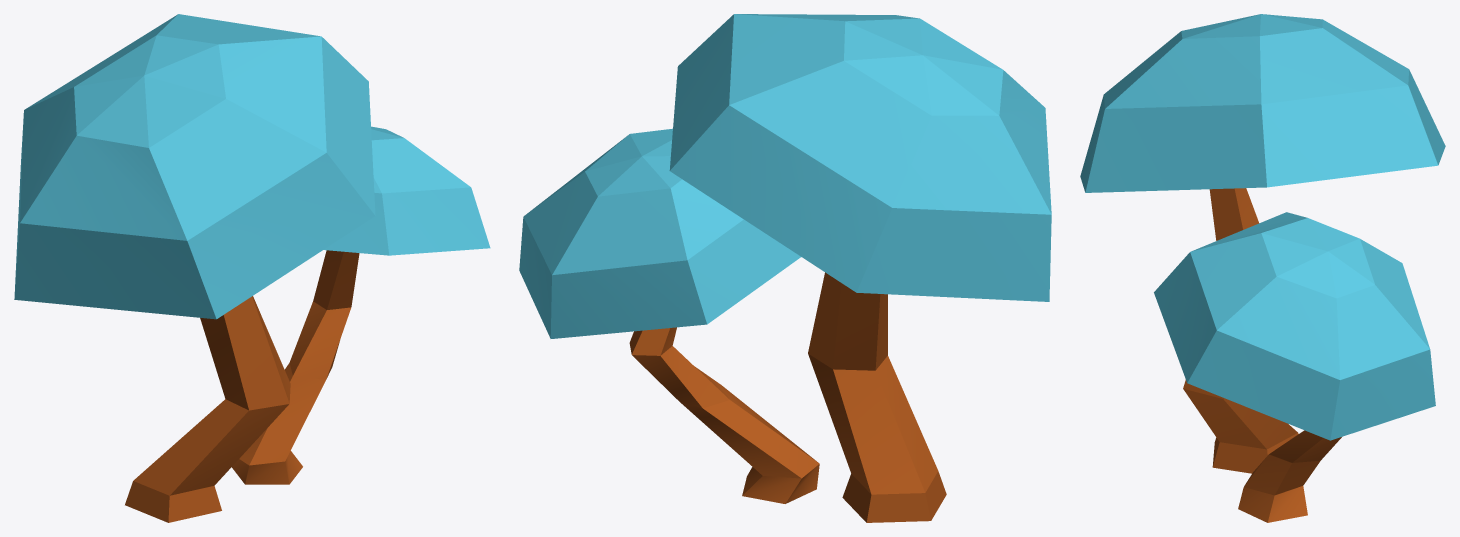
File: Mushroom_d_b_01.fbx
3 renders of one model, left to right at view 1: azimuth 30°, elevation 25°; view 2: azimuth 150°, elevation 25°; view 3: azimuth 270°, elevation 25°, orthographic. The views are drawn at different scales.
Parts seen in each view (by area): view 1: Mushroom_d_b_01_LOD0; view 2: Mushroom_d_b_01_LOD0; view 3: Mushroom_d_b_01_LOD0.
Boxes of the visible parts, <box> form: Mushroom_d_b_01_LOD0: <box>14,14,490,522</box>; Mushroom_d_b_01_LOD0: <box>519,14,1051,522</box>; Mushroom_d_b_01_LOD0: <box>1080,14,1445,522</box>.
Size of what is drawn, in the model's own units: 8.75 by 7.96 by 5.94.
